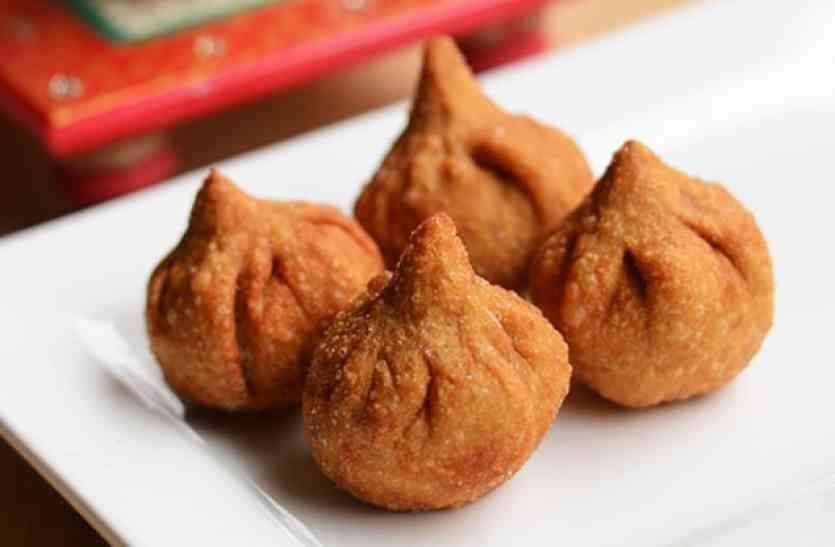modak: (351, 224, 576, 499), (359, 23, 606, 264), (552, 167, 792, 402), (154, 158, 377, 396)
